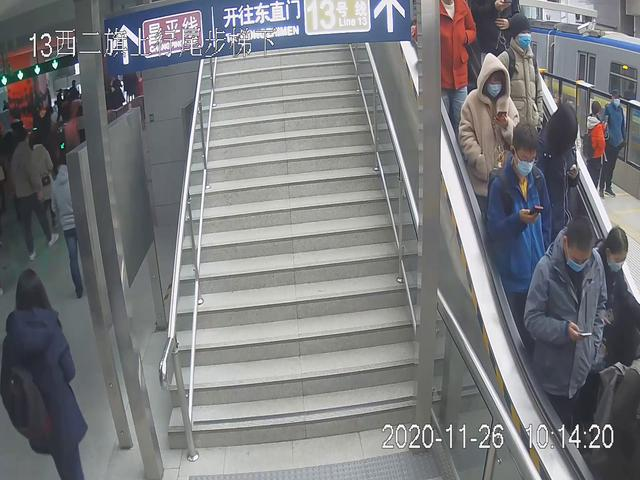person: (522, 213, 608, 452), (2, 265, 90, 480), (481, 120, 554, 345), (458, 49, 521, 224), (495, 10, 549, 158)
